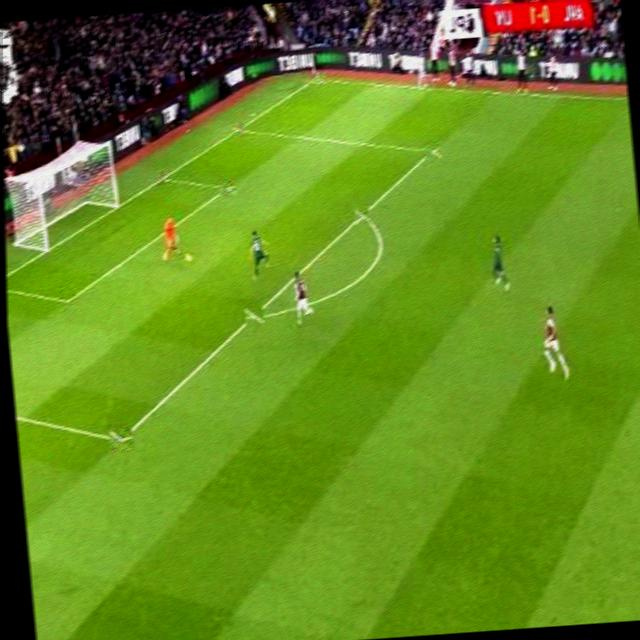bigarea_bottom_inner: (107, 422, 133, 452)
bigarea_top_inner: (423, 140, 441, 158)
bigarea_top_outter: (230, 120, 245, 136)
bottom_arc_area_intersection: (243, 304, 264, 326)
corner: (306, 72, 325, 85)
smallarea_bottom_inner: (56, 284, 78, 312)
smallarea_top_inner: (217, 177, 236, 196)
smallarea_top_outter: (154, 168, 171, 185)
top_arc_area_intersection: (353, 204, 369, 223)
